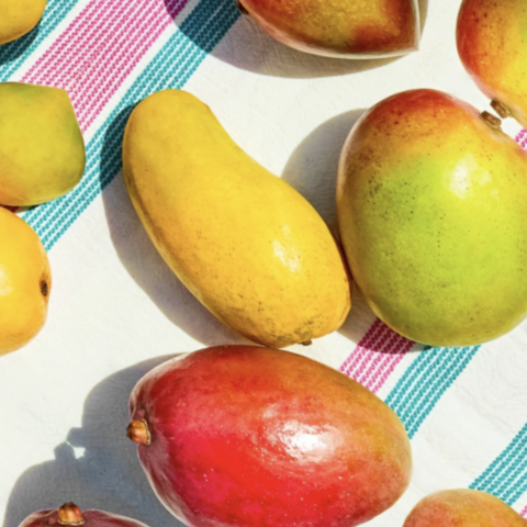mango: (39, 48, 422, 410), (42, 229, 458, 527), (223, 16, 527, 411)
